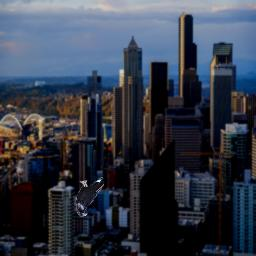Crow: (76, 177, 104, 217)
